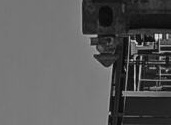Copy of Copy of Copy of Copy of twist_lock_2: (84, 30, 127, 73)
